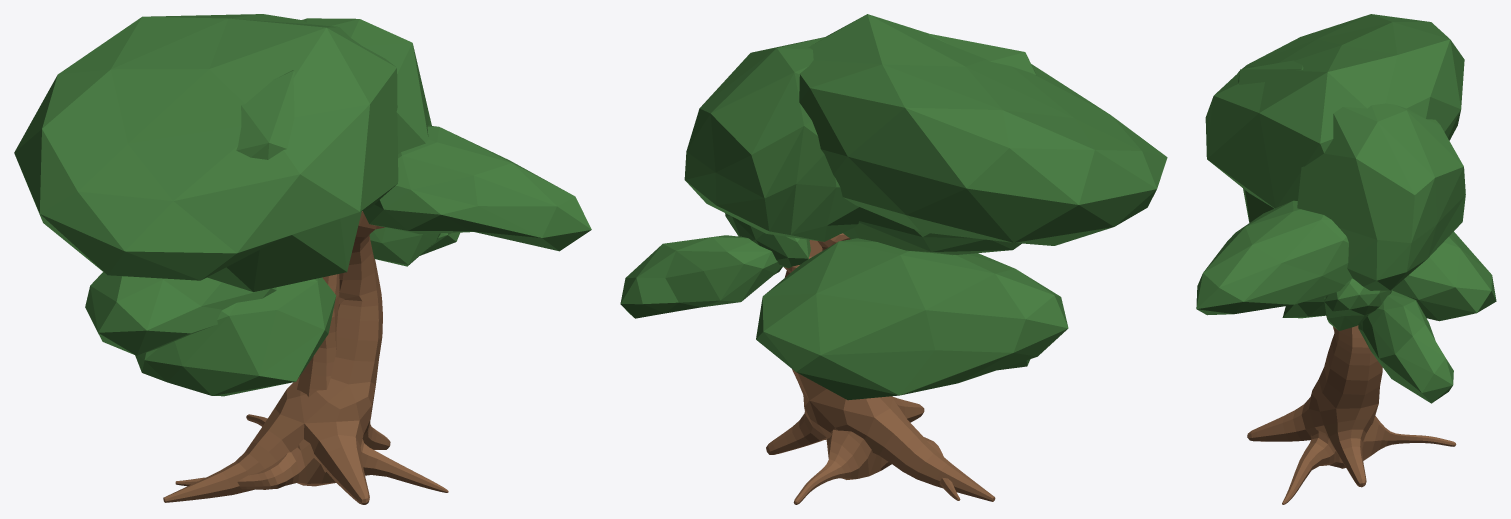
The model's file is shrek_trees_01.fbx.
The picture shows the model from 3 angles, left to right: view 1: azimuth 30°, elevation 25°; view 2: azimuth 150°, elevation 25°; view 3: azimuth 270°, elevation 25°; orthographic projection. The views are drawn at different scales.
Parts seen in each view (by area): view 1: tree02, tree01; view 2: tree02, tree01; view 3: tree02, tree01.
Part boxes in pixels (x1,y1,x2,y2): tree02: (14,14,591,504); tree01: (135,18,459,492); tree02: (756,14,1167,501); tree01: (620,34,1035,504); tree02: (1196,14,1496,487); tree01: (1238,60,1465,504).
Bounding box in the file's own units: 3218 × 2982 × 2058.
